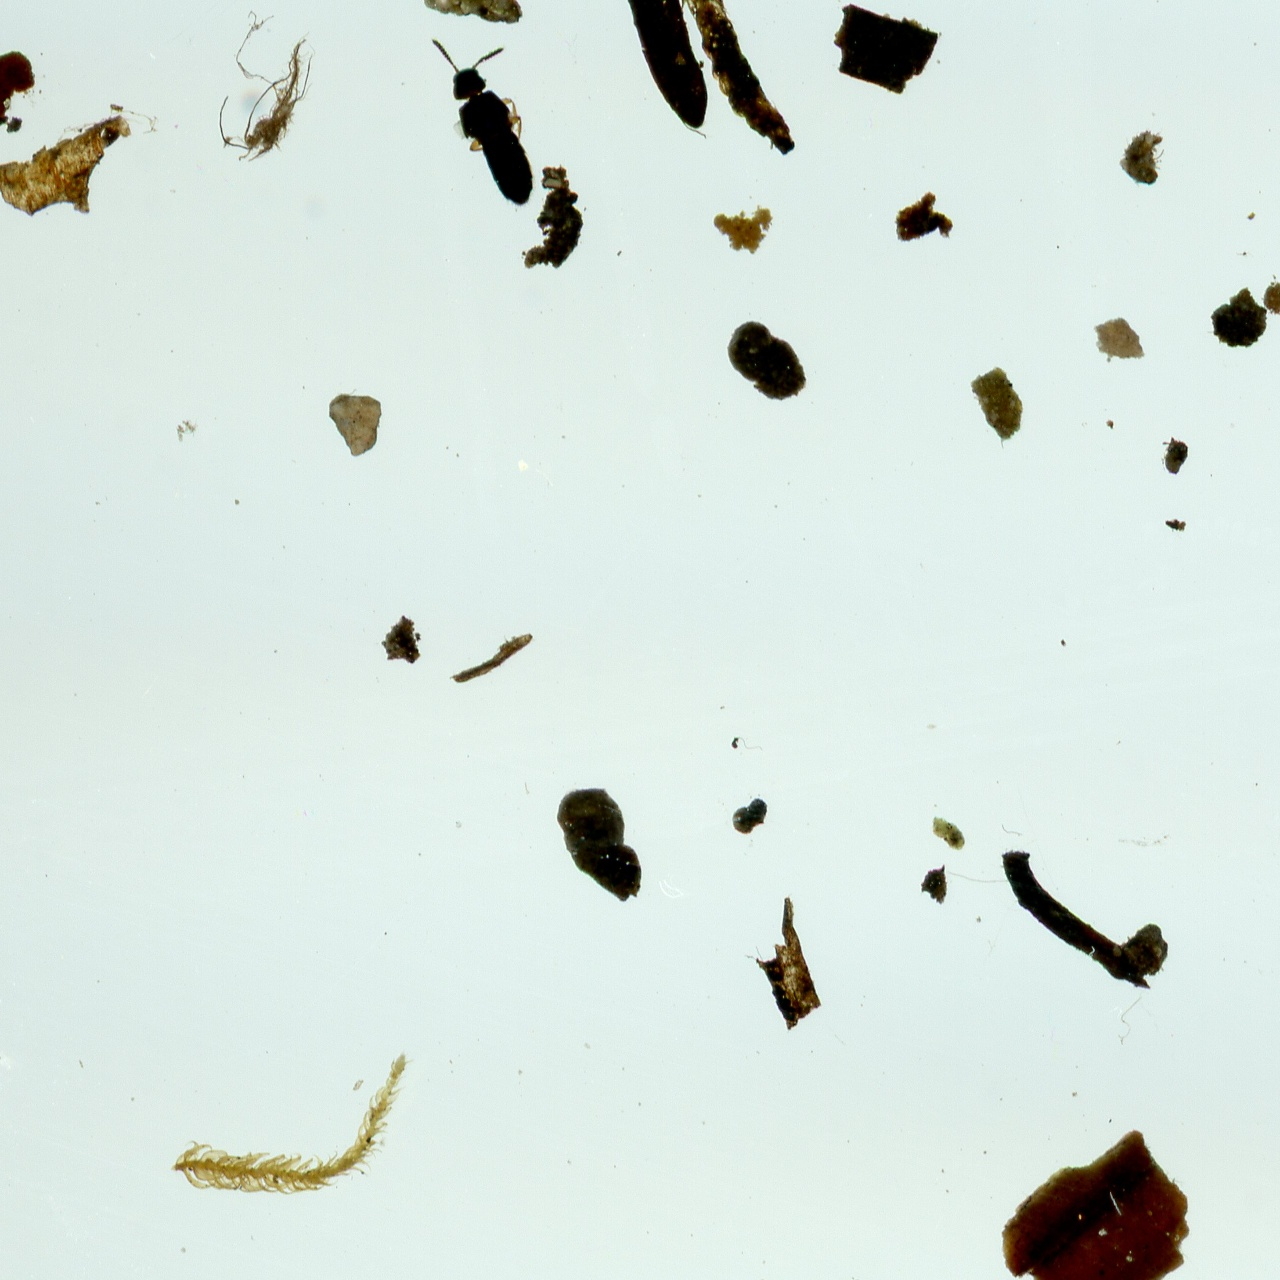arthropod: (411, 11, 564, 231)
